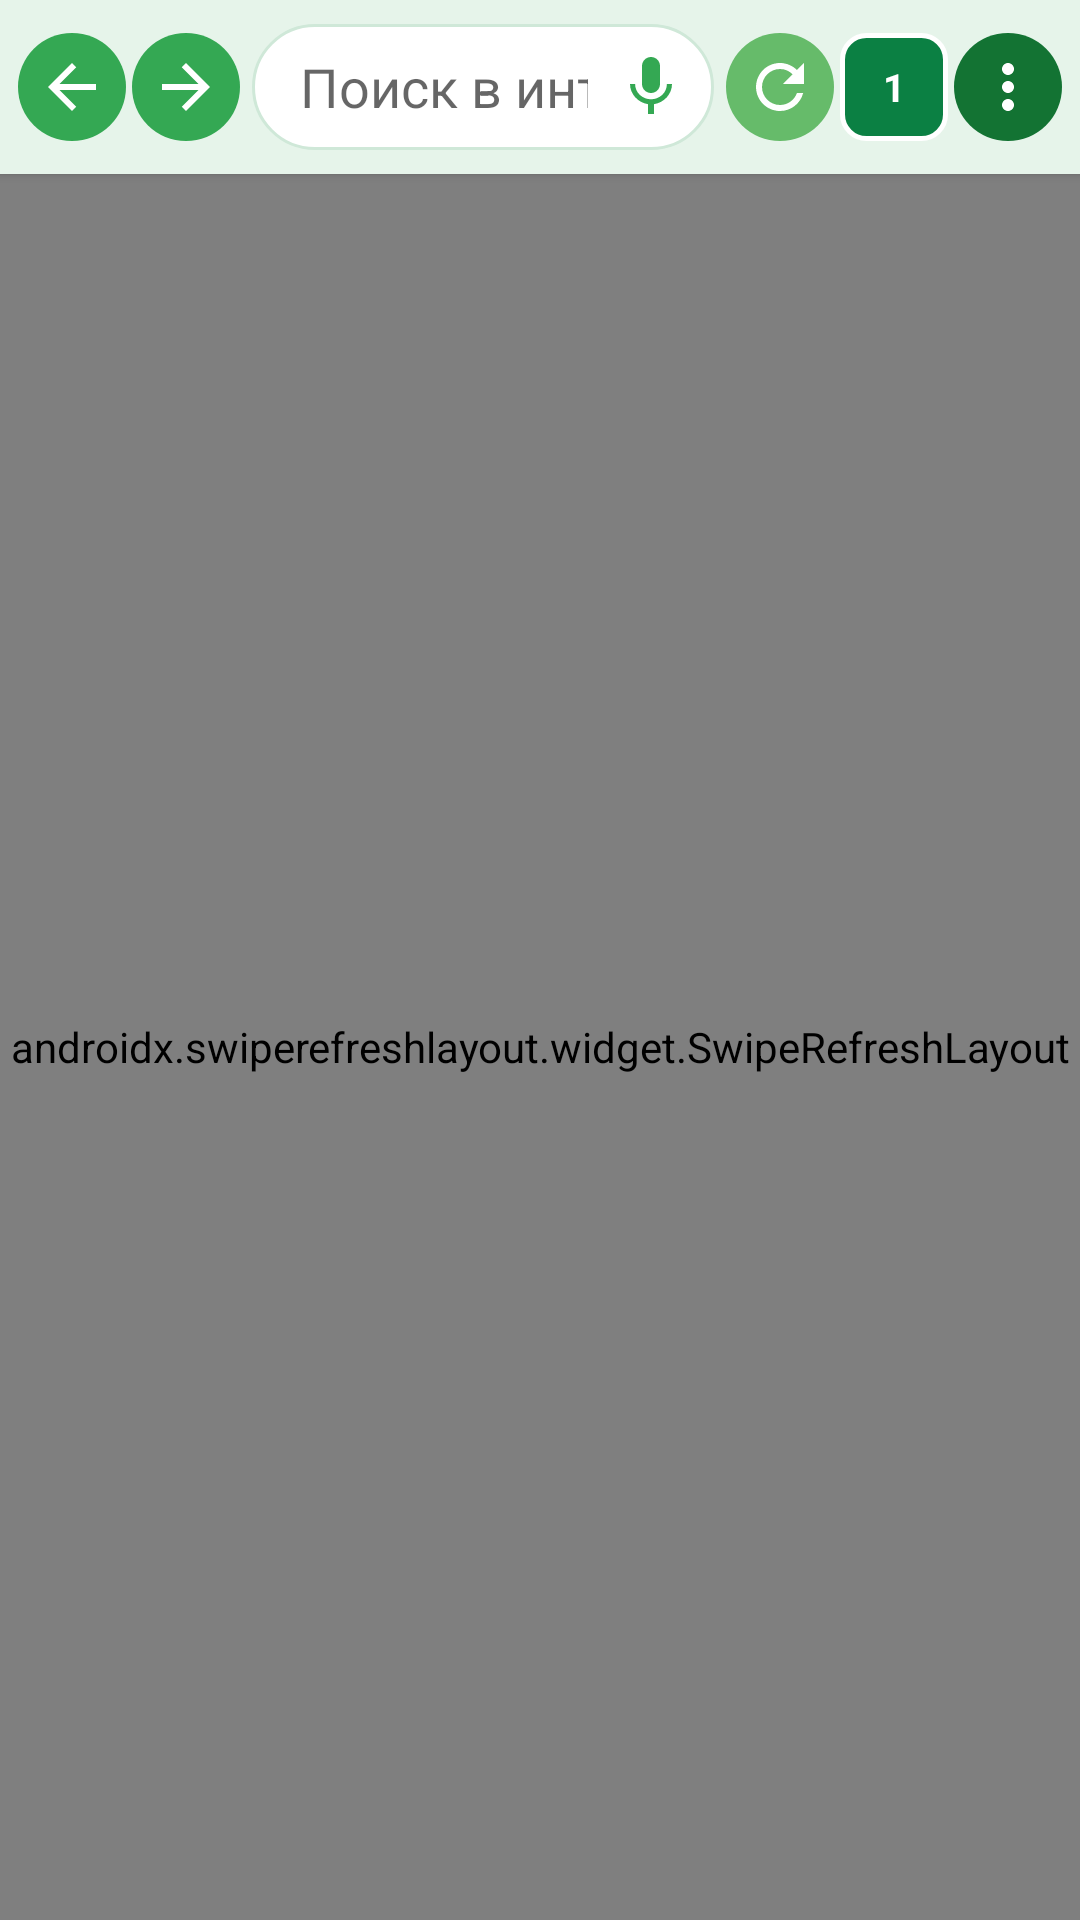

Screen size 1080×1920. Icon name, then its center in pixels as (x,y):
back: (72,87)
Вперёд: (186,87)
Голосовой поиск: (651,85)
Обновить: (780,87)
